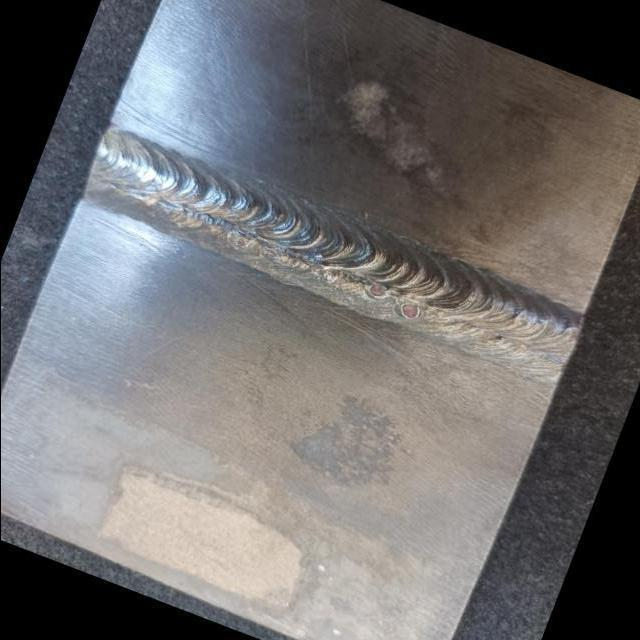defect: (396, 300, 425, 324), (363, 277, 392, 300), (262, 246, 287, 266), (230, 230, 254, 250), (492, 331, 508, 345)
